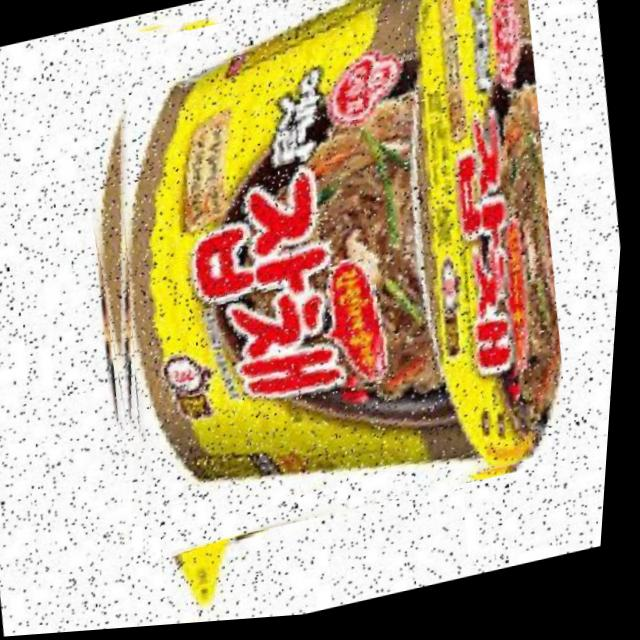Miscellaneous: (47, 0, 604, 569)
